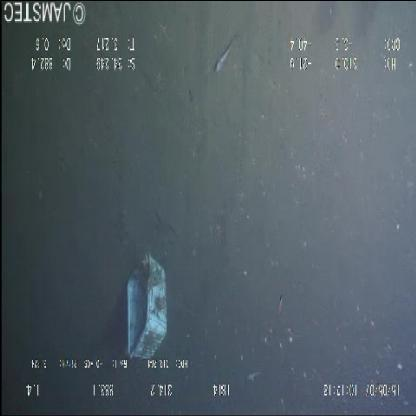Rác: (122, 243, 174, 373)
